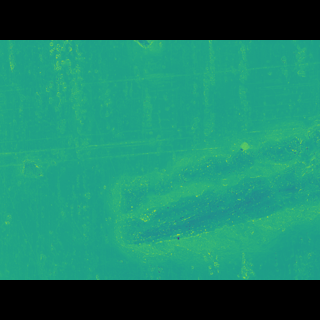Loch: (102, 125, 319, 237)
